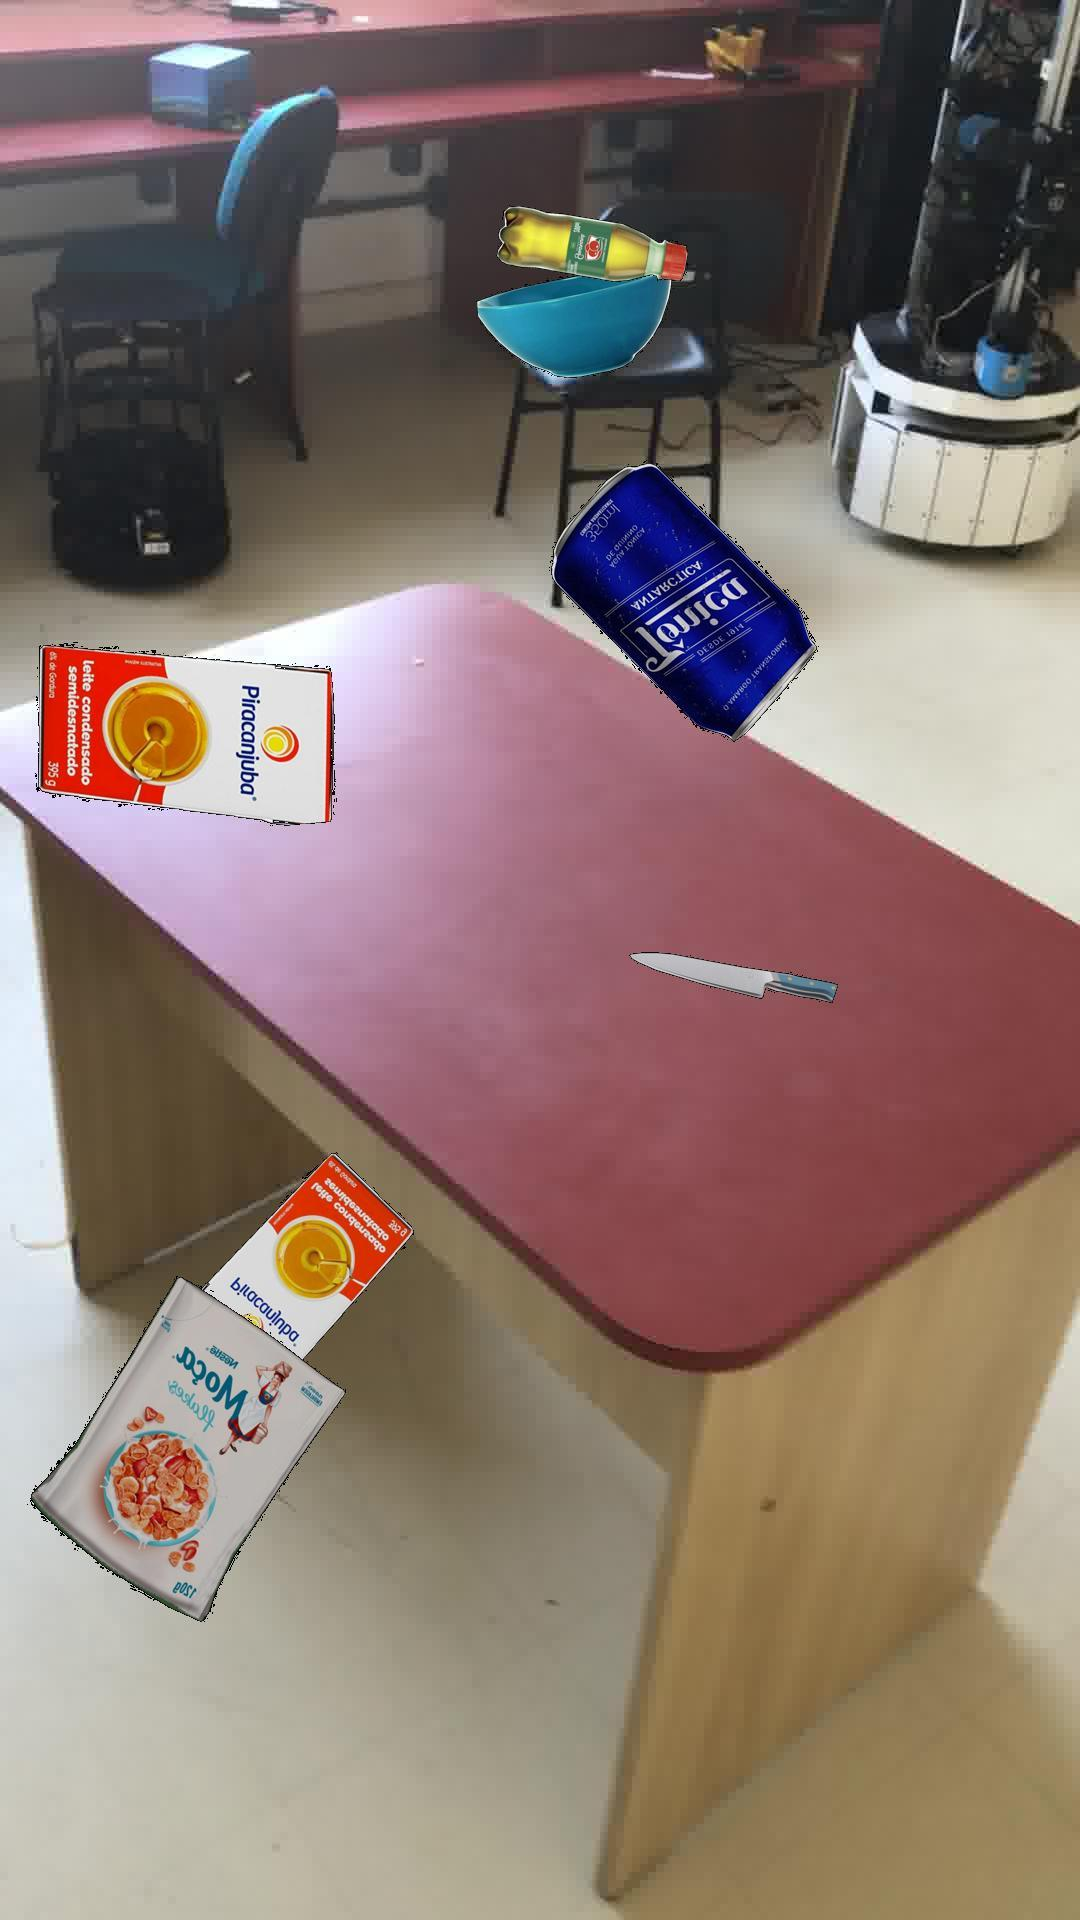bowl: (475, 273, 670, 377)
corn flakes: (29, 1274, 344, 1621)
guarana: (495, 204, 687, 281)
knife: (628, 951, 836, 1001)
tonic: (550, 462, 815, 741)
